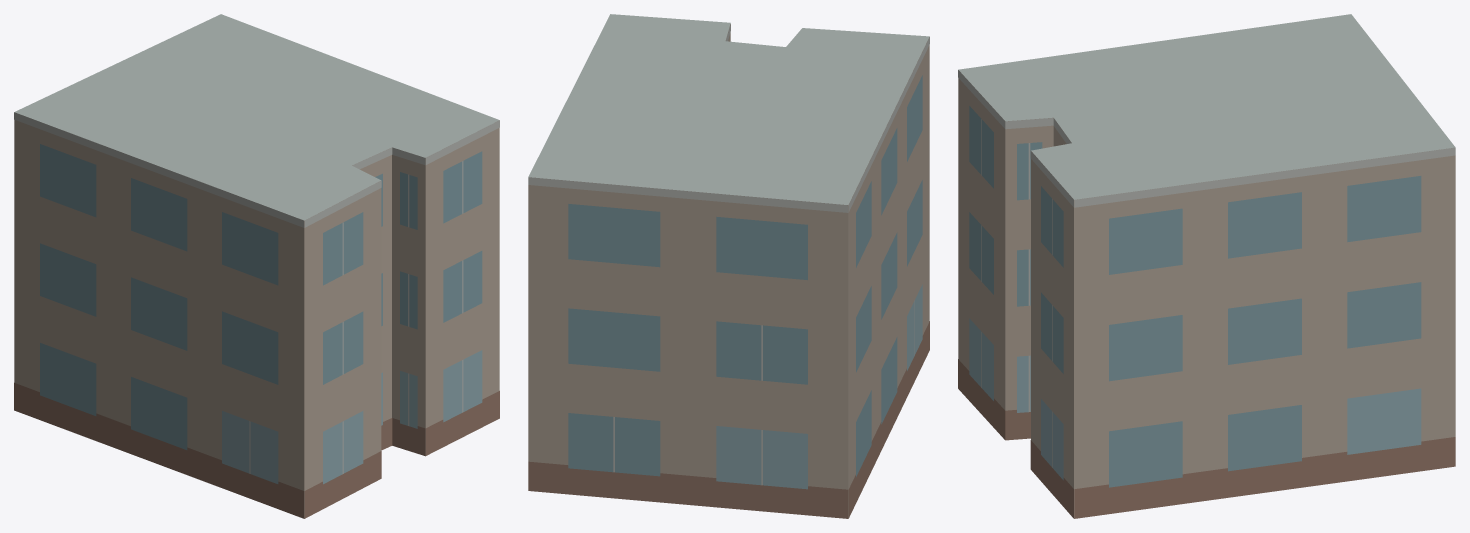
File: survey-upis-32845831.glb
The picture shows the model from 3 angles, left to right: view 1: azimuth 30°, elevation 25°; view 2: azimuth 150°, elevation 25°; view 3: azimuth 270°, elevation 25°; orthographic projection. The views are drawn at different scales.
Visible parts, largest first — view 1: survey-upis-32845831.tmp; view 2: survey-upis-32845831.tmp; view 3: survey-upis-32845831.tmp.
Part boxes in pixels (x1=…): survey-upis-32845831.tmp: x1=14, y1=14, x2=499, y2=518; survey-upis-32845831.tmp: x1=528, y1=14, x2=929, y2=518; survey-upis-32845831.tmp: x1=958, y1=14, x2=1455, y2=518.
Size of the model in its own units: 12.25 by 9.8 by 13.86.
